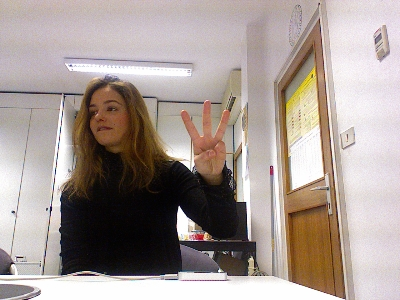三分: (179, 99, 230, 176)
